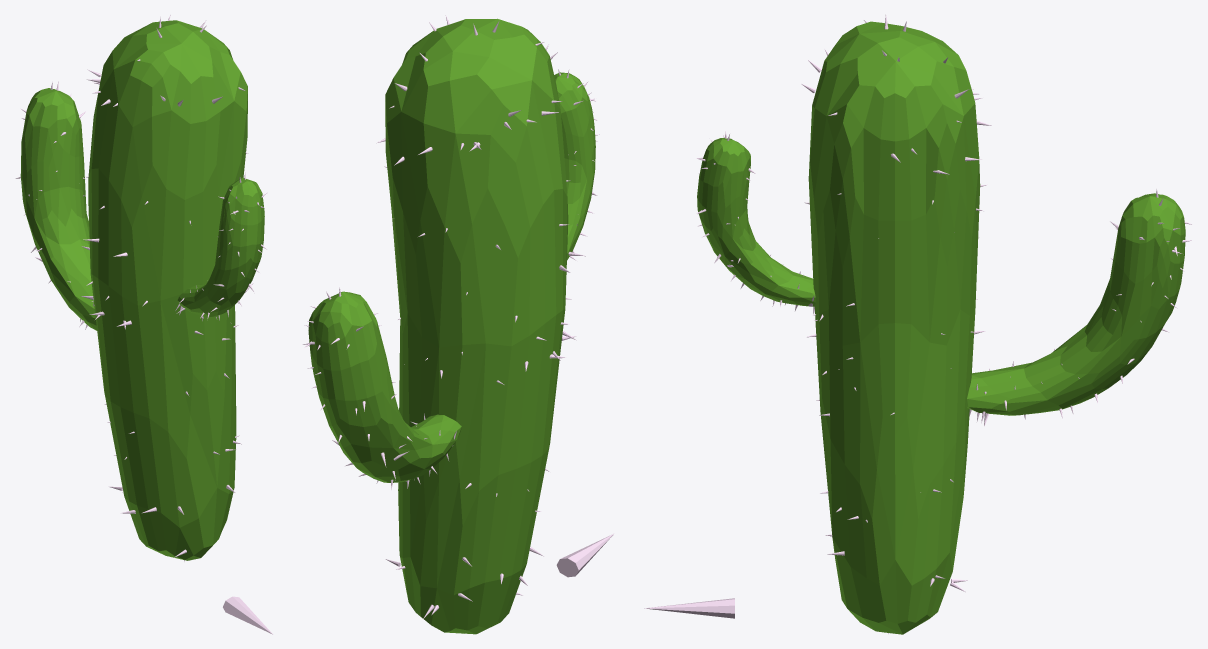
The model's file is Cactus02.obj.
3 renders of one model, left to right at view 1: azimuth 30°, elevation 25°; view 2: azimuth 150°, elevation 25°; view 3: azimuth 270°, elevation 25°, orthographic. The views are drawn at different scales.
Parts seen in each view (by area): view 1: Circle, x_Circle.001, x.001_Circle.002, Cone; view 2: Circle, x_Circle.001, x.001_Circle.002, Cone; view 3: Circle, x_Circle.001, x.001_Circle.002, Cone.
Boxes of the visible parts, bbox=[...] form: Circle: bbox=[88, 20, 247, 560]; x_Circle.001: bbox=[20, 88, 96, 330]; x.001_Circle.002: bbox=[177, 177, 264, 317]; Cone: bbox=[15, 15, 273, 634]; Circle: bbox=[385, 18, 568, 634]; x_Circle.001: bbox=[308, 291, 461, 482]; x.001_Circle.002: bbox=[554, 72, 595, 260]; Cone: bbox=[302, 15, 614, 618]; Circle: bbox=[808, 21, 980, 634]; x_Circle.001: bbox=[966, 193, 1185, 415]; x.001_Circle.002: bbox=[697, 137, 815, 306]; Cone: bbox=[644, 15, 1192, 633].
Size of the model in its own units: 2.84 by 9.3 by 7.65.
